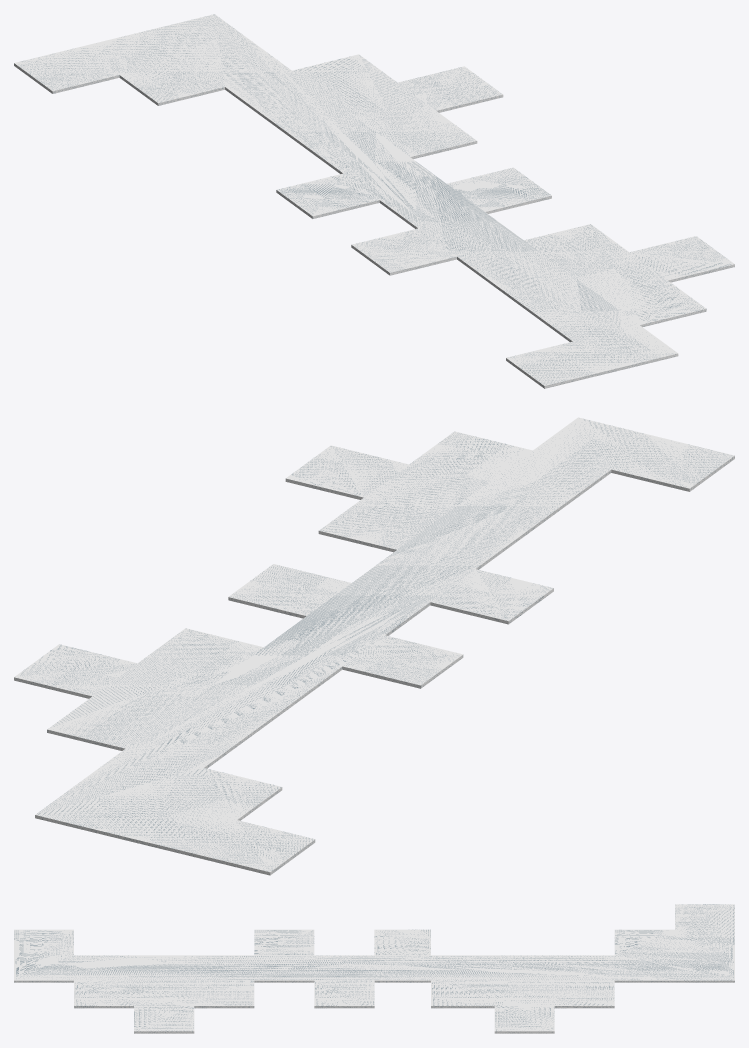
The model's file is KeyFull1.fbx.
3 renders of one model, top to bottom at view 1: azimuth 30°, elevation 25°; view 2: azimuth 150°, elevation 25°; view 3: azimuth 270°, elevation 25°, orthographic. The views are drawn at different scales.
Visible parts, largest first — view 1: Model; view 2: Model; view 3: Model.
Boxes of the visible parts, x1,y1,x2,y2 form: Model: [14, 14, 734, 388]; Model: [14, 417, 734, 875]; Model: [14, 904, 734, 1033].
Size of the model in its own units: 125 by 1 by 300.
